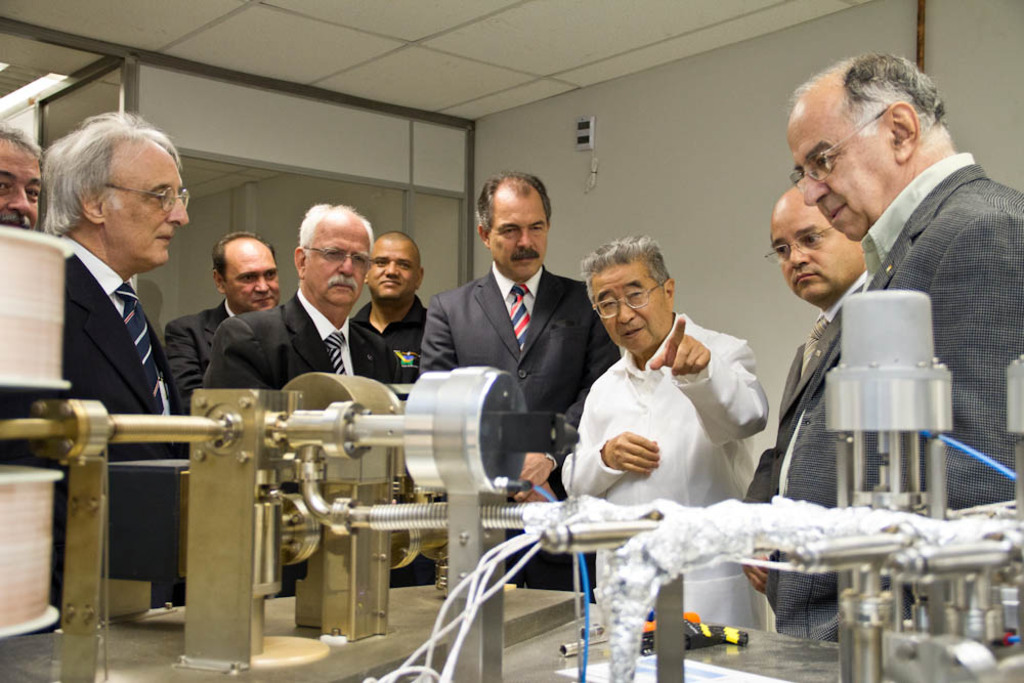Human-face: (48, 114, 189, 272)
